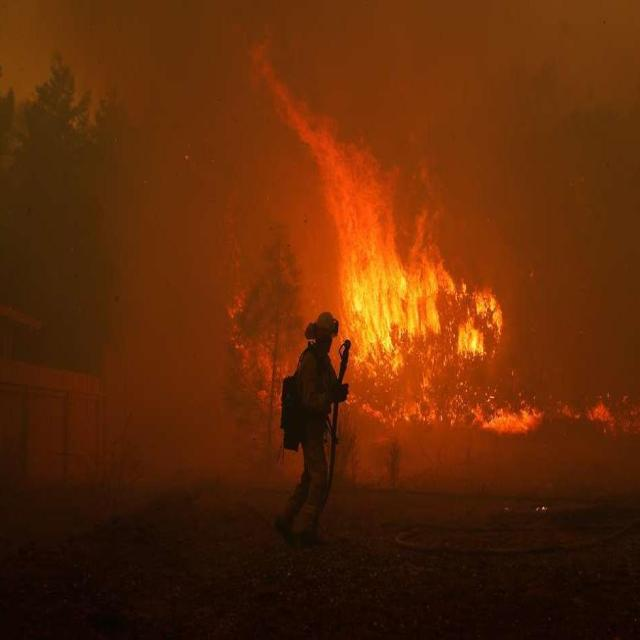Fire: (280, 46, 504, 379), (350, 385, 636, 443)
